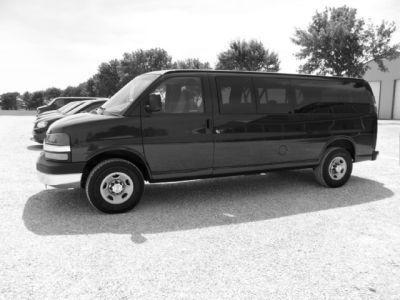car: (41, 70, 381, 217)
